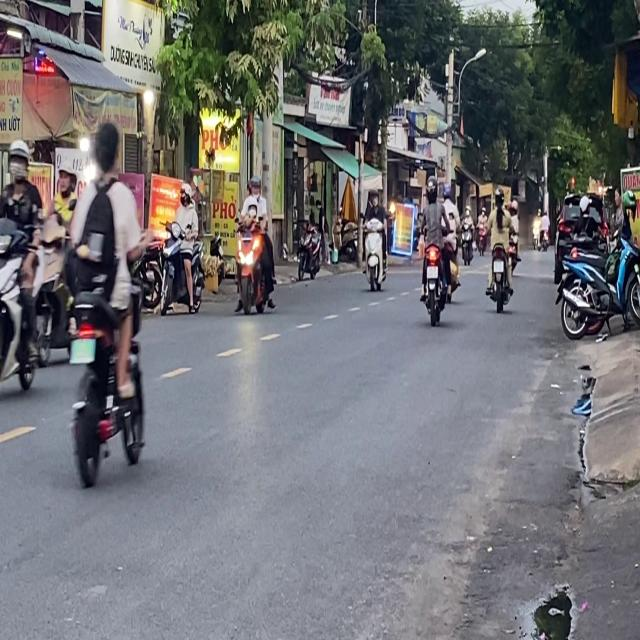helmet: (6, 137, 30, 181), (425, 175, 438, 201), (179, 182, 191, 204), (248, 174, 260, 195)
licenseplate: (61, 116, 151, 489), (0, 135, 47, 407), (232, 172, 277, 316), (417, 172, 457, 323)
motorcyclist: (90, 118, 120, 178)
nohelmet: (70, 339, 95, 362), (427, 266, 438, 278)
